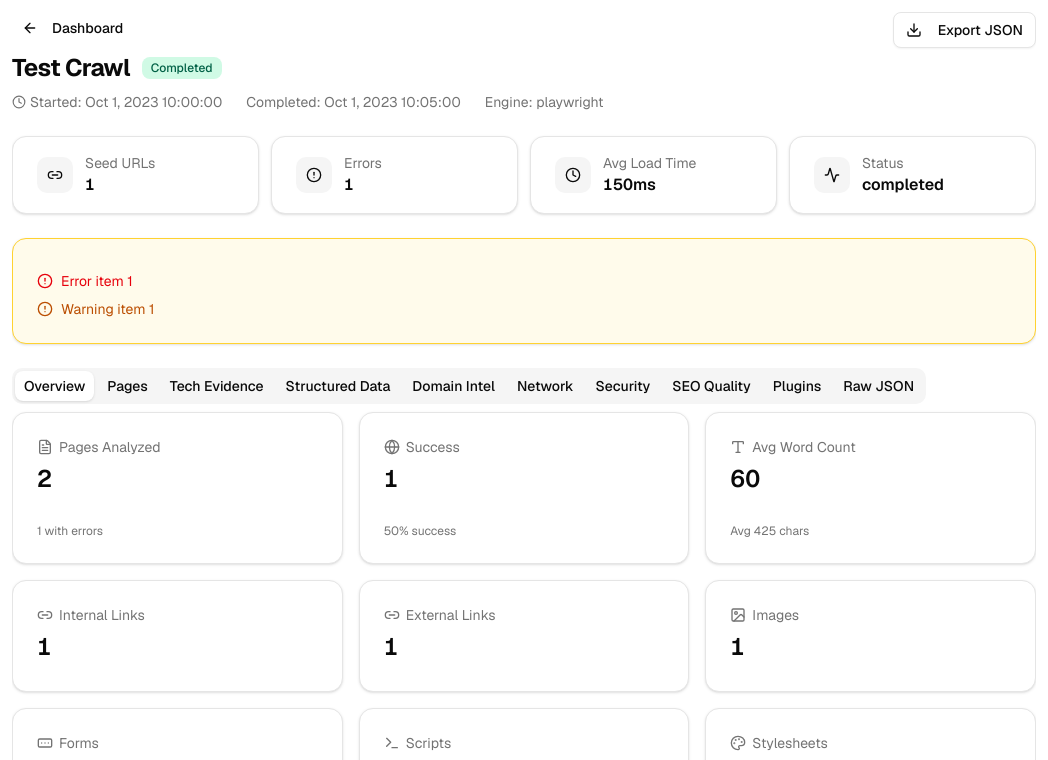
Test: CrawlDetailView › renders Structured Data tab content
Expected: the heading "Test Crawl" is shown, [12,52,130,84]
Click the tab "Structured Data". click: click(338, 386)
box: [276,371,399,401]
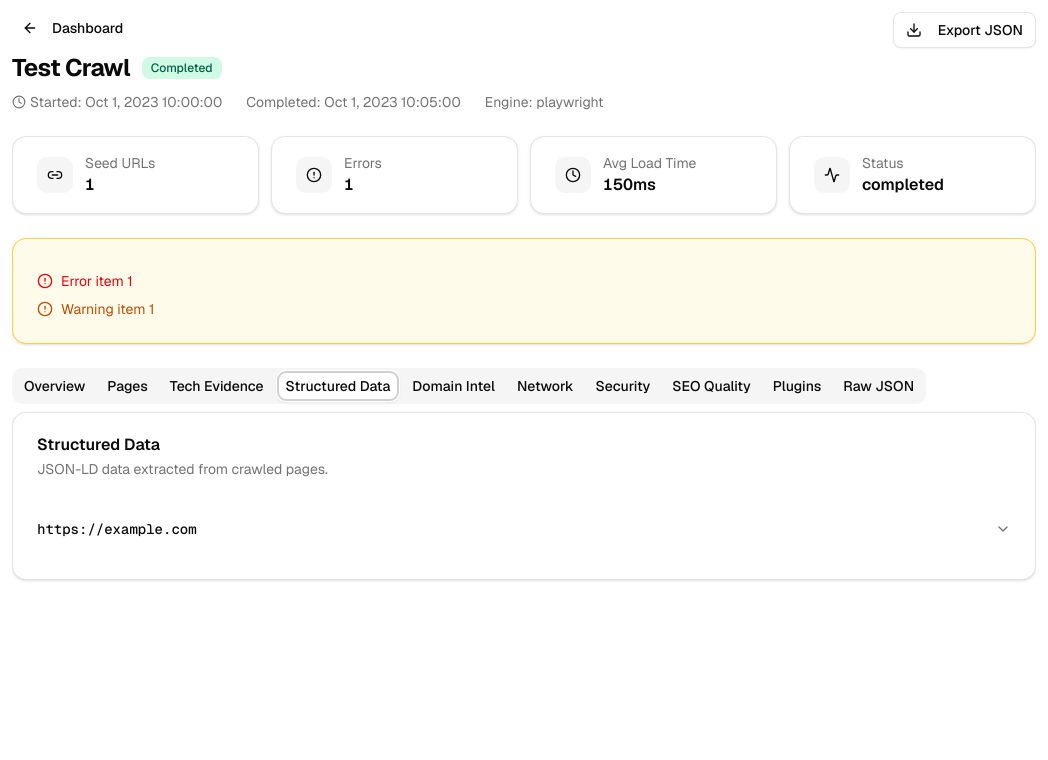
Expected: the text "https://example.com" is shown, [37,519,205,539]
Expected: the text "JSON-LD data extracted from crawled pages." is shown, [37,460,328,478]
